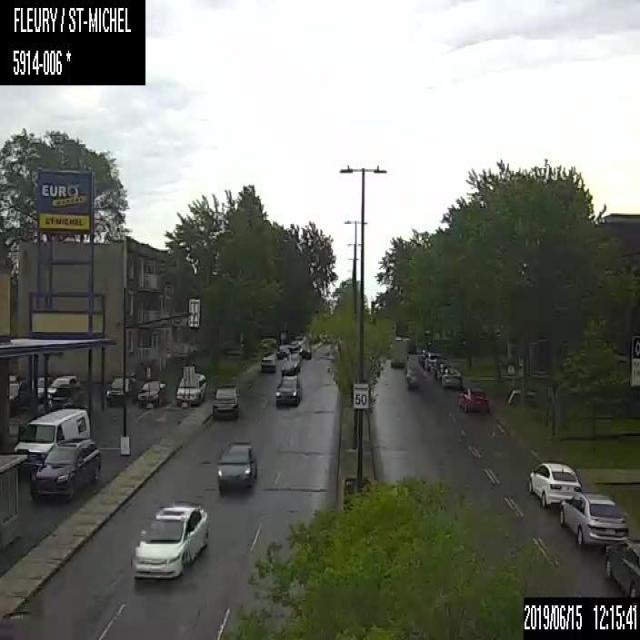vehicle: (128, 500, 208, 578), (14, 407, 90, 474), (29, 437, 101, 500), (559, 491, 628, 548), (527, 460, 582, 507), (216, 439, 256, 494), (604, 537, 639, 596), (174, 365, 207, 406), (212, 382, 239, 420), (104, 374, 136, 405), (47, 374, 79, 403), (275, 374, 302, 408), (137, 379, 166, 406), (457, 386, 487, 412), (48, 383, 79, 406), (390, 338, 408, 367), (441, 366, 462, 389), (280, 353, 301, 374), (422, 351, 442, 372), (36, 379, 53, 397), (433, 361, 450, 379), (260, 352, 276, 371), (417, 348, 428, 362), (275, 348, 290, 358), (289, 339, 300, 352), (37, 376, 54, 382)
